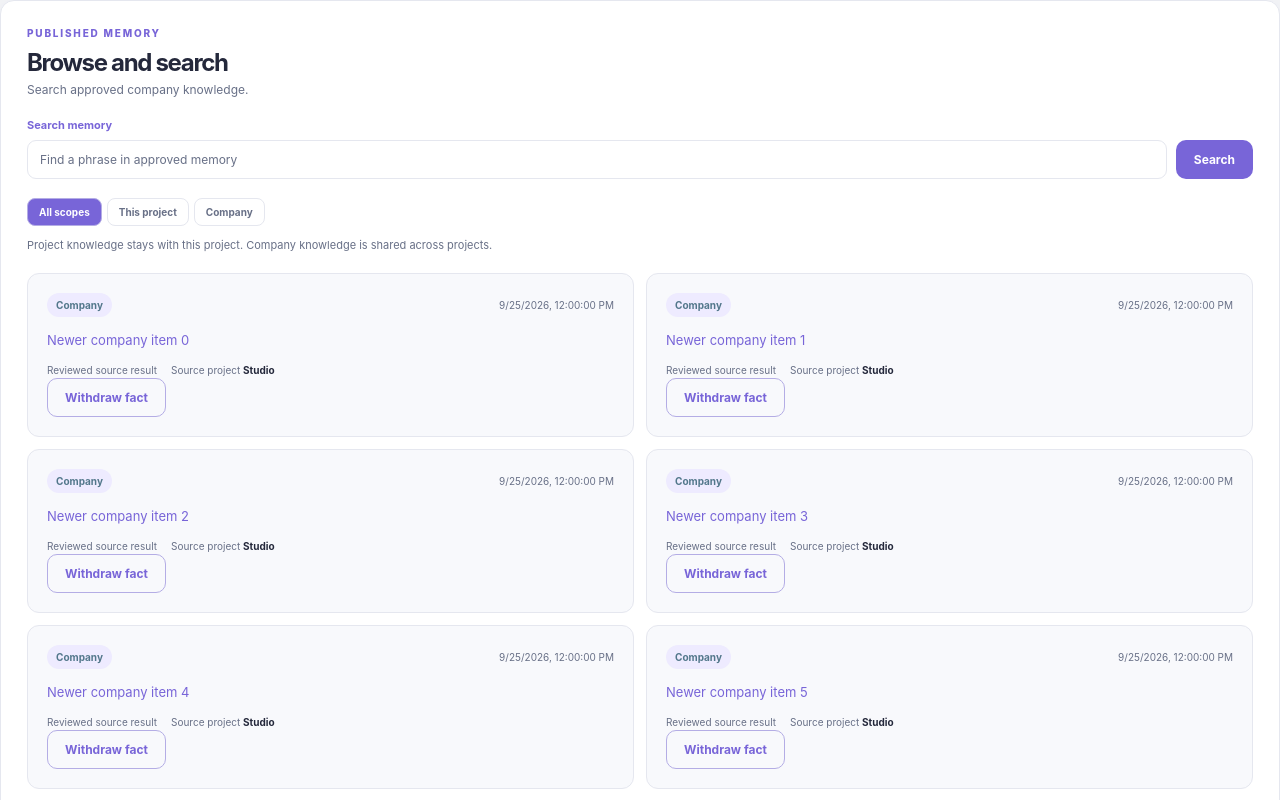
requests scope before the server limit so older project memory remains reachable
Expected: the text "Newer company item 0" is shown, [47,332,189,348]
Click the button "This project". click: click(148, 212)
box: [107,198,189,226]
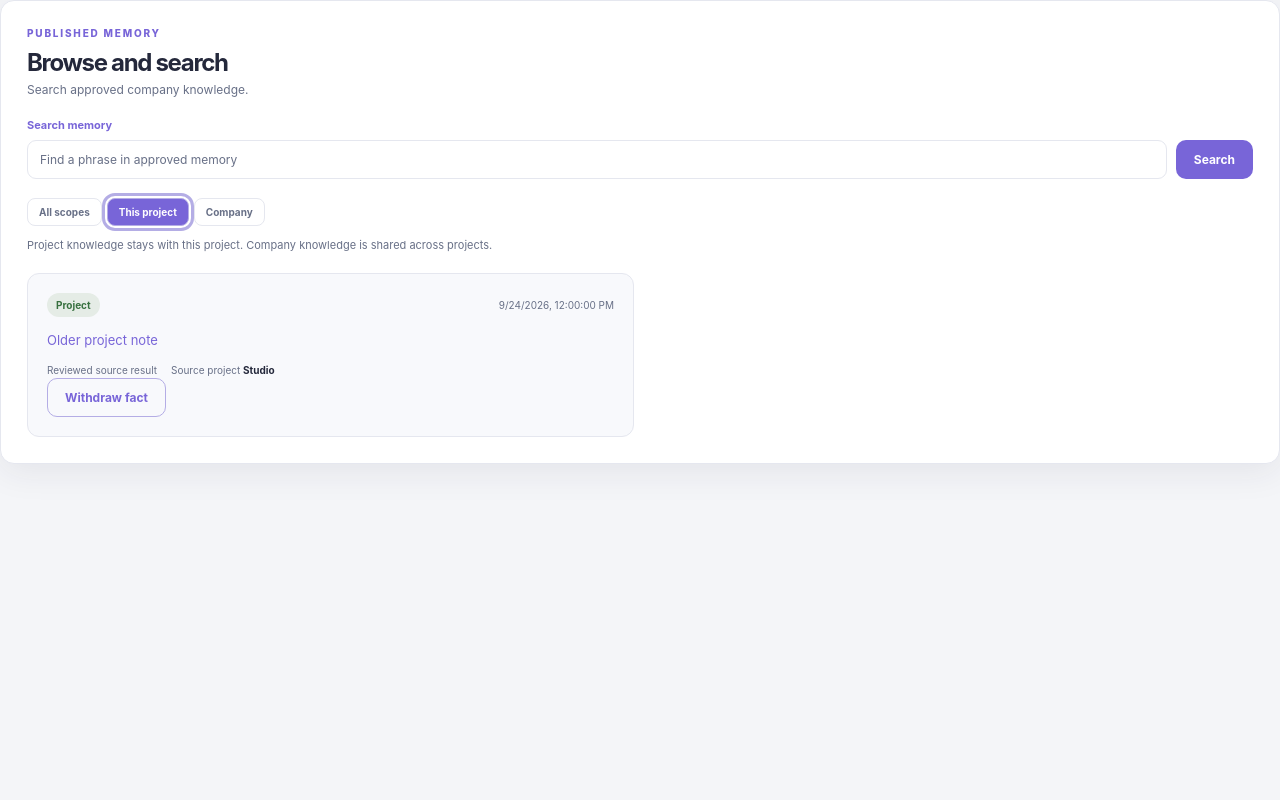
Expected: the text "Older project note" is shown, [47,332,158,348]
